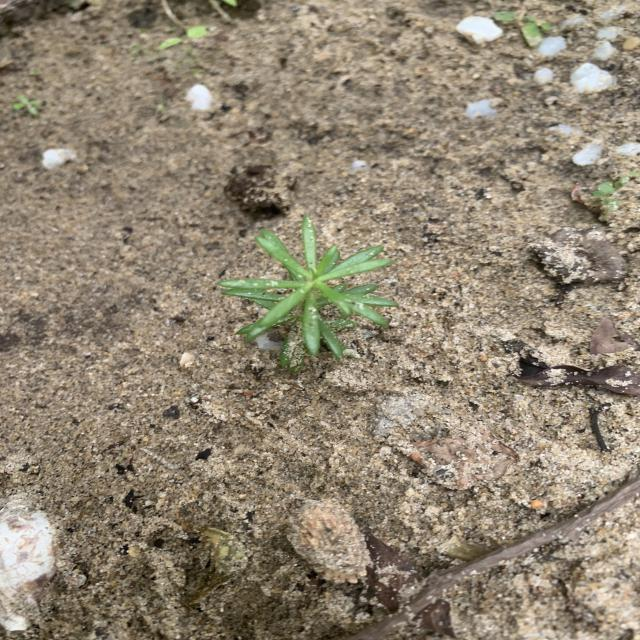weed: (216, 216, 397, 370), (492, 11, 551, 47), (593, 172, 637, 212), (156, 25, 217, 50), (13, 95, 42, 115)
